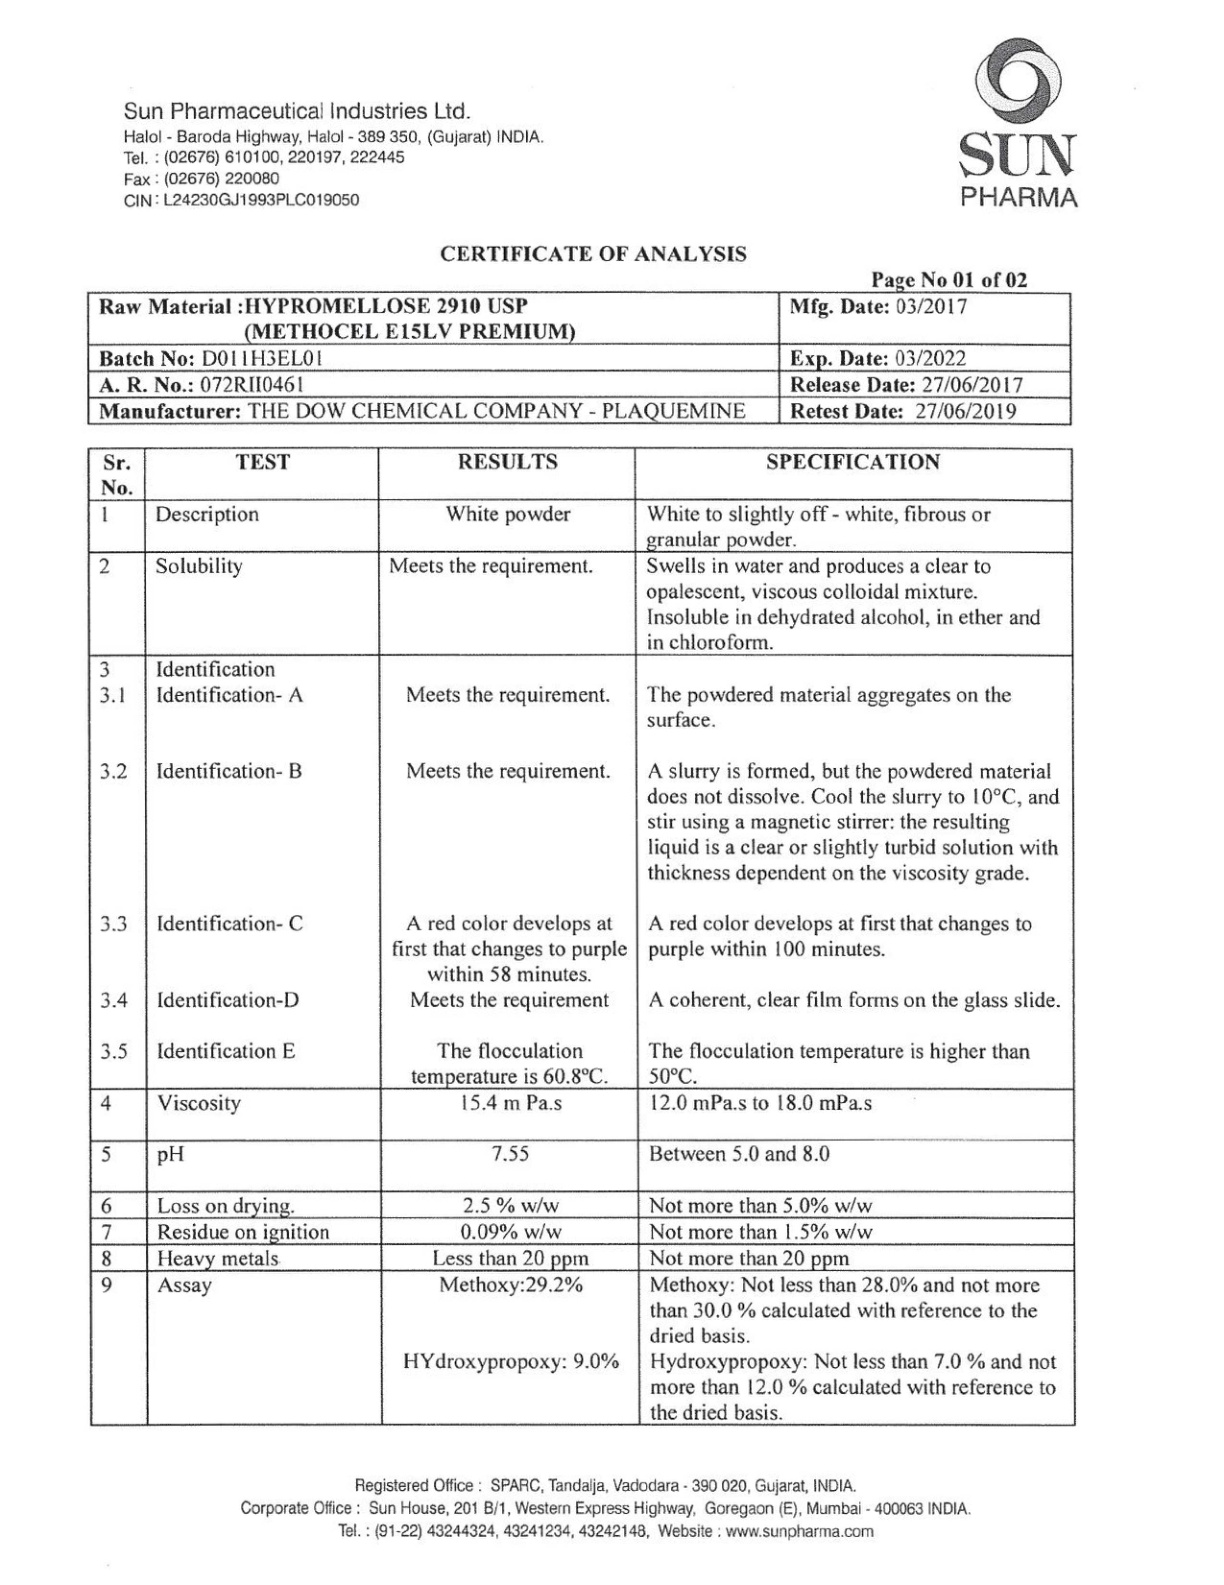full_lined: (86, 447, 1077, 1427), (86, 291, 1074, 425)
